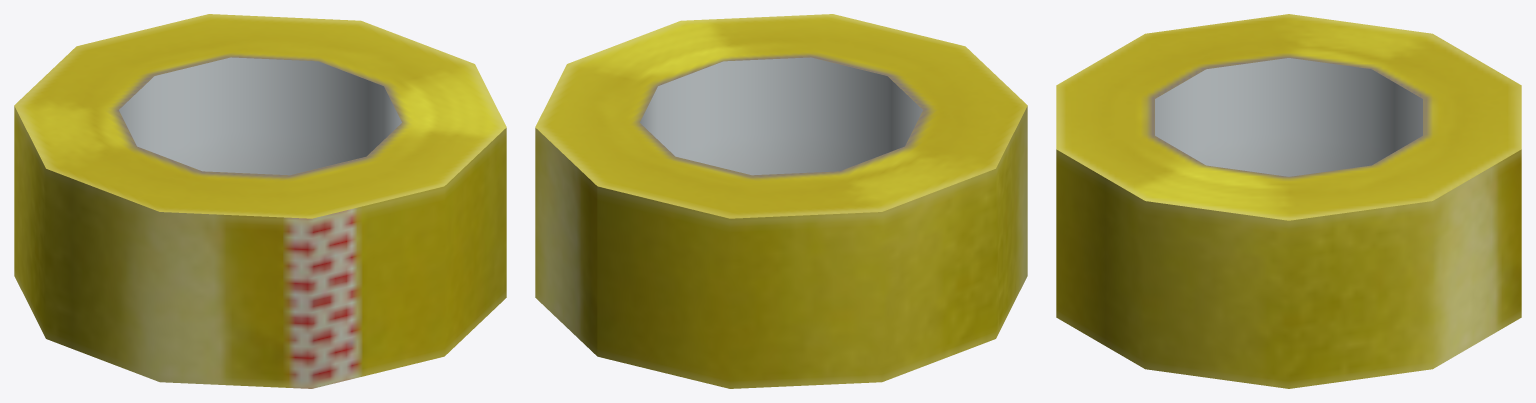
File: QiCheXiuLiChang_01_jiaodai_01.FBX
3 views of the same model, side by side, from view 1: azimuth 30°, elevation 25°; view 2: azimuth 150°, elevation 25°; view 3: azimuth 270°, elevation 25° (orthographic).
Parts seen in each view (by area): view 1: QiCheXiuLiChang_01_jiaodai_01; view 2: QiCheXiuLiChang_01_jiaodai_01; view 3: QiCheXiuLiChang_01_jiaodai_01.
Part boxes in pixels (left/top/right/bottom): QiCheXiuLiChang_01_jiaodai_01: left=14, top=14, right=506, bottom=388; QiCheXiuLiChang_01_jiaodai_01: left=535, top=14, right=1027, bottom=388; QiCheXiuLiChang_01_jiaodai_01: left=1056, top=14, right=1521, bottom=388.
Bounding box in the file's own units: 102 × 38.71 × 97.05.
